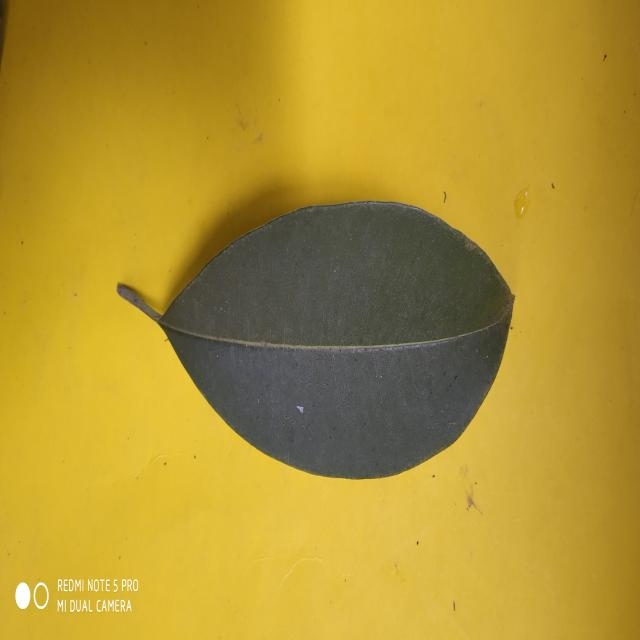sapota: (159, 202, 514, 478)
